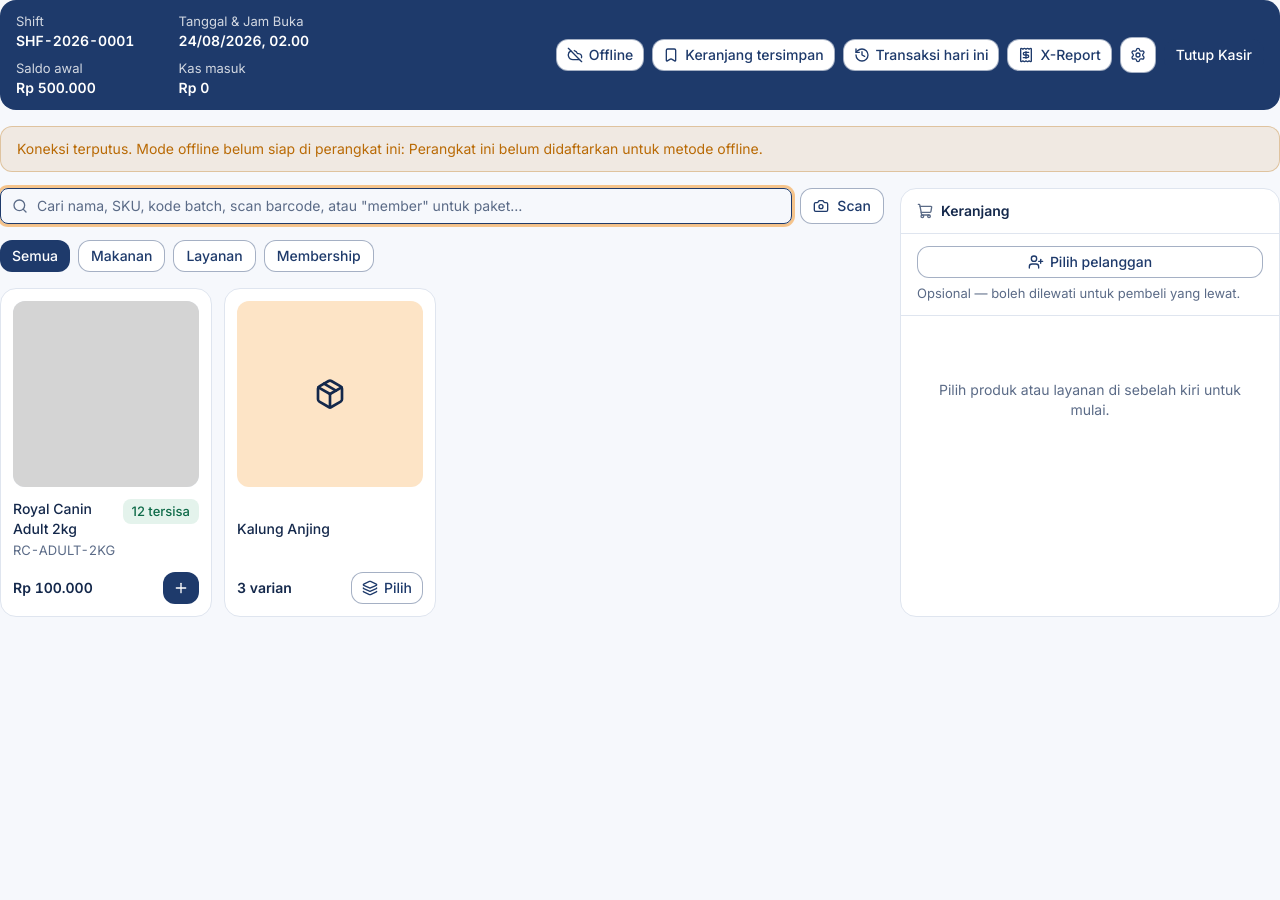
Test case: PosScreen — the catalogue (FR-1) › opens a variant picker for a parent rather than adding it
Click the button with aria-label "pilih varian kalung anjing". click: (387, 588)
box: [351, 572, 423, 604]
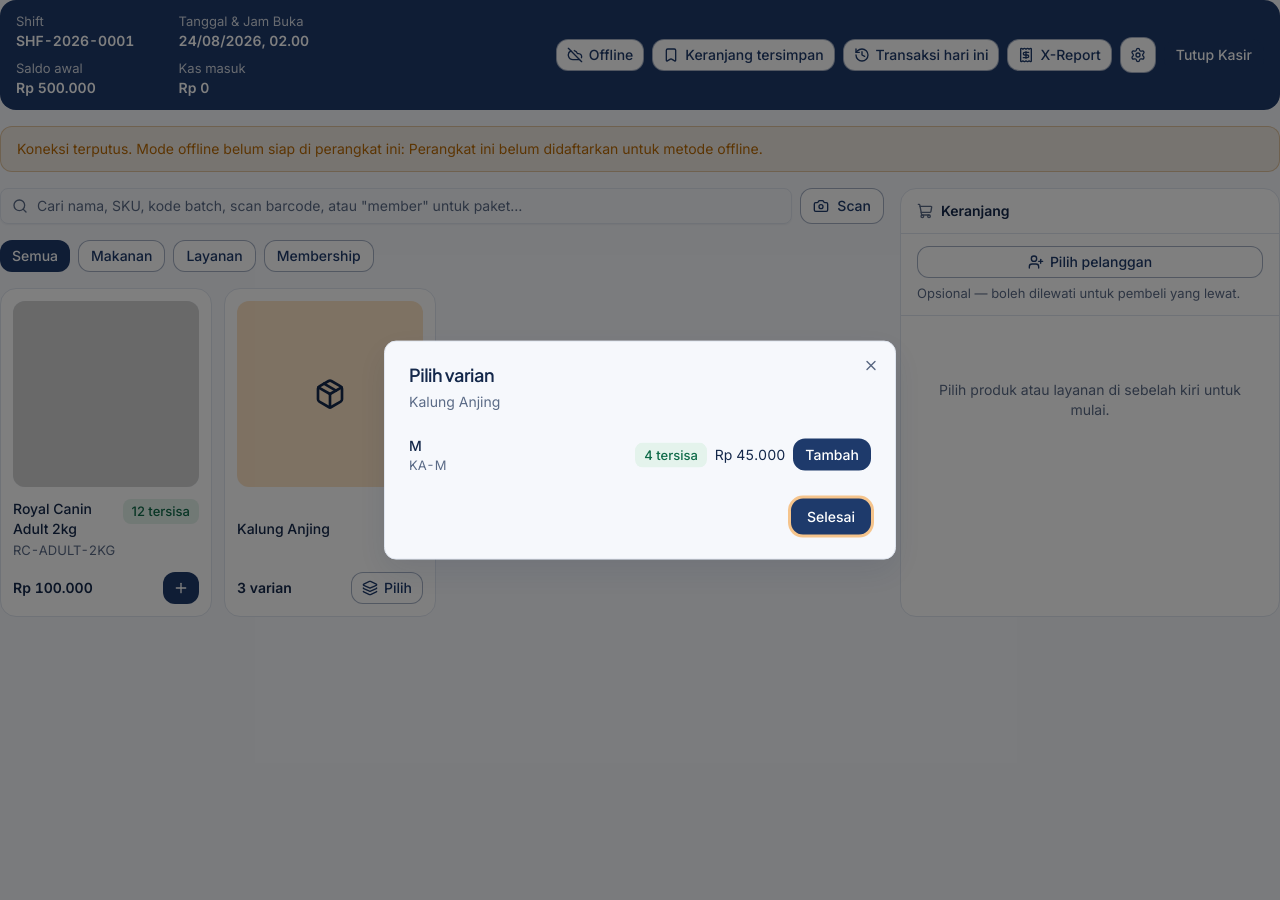
expect the text "M" is shown: met, box [409, 437, 422, 454]
